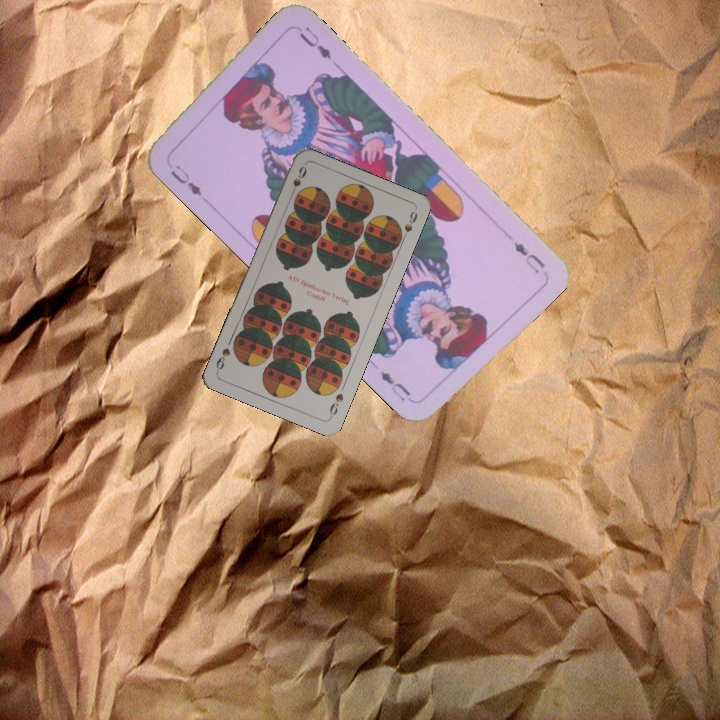EU: (166, 160, 205, 199), (509, 237, 548, 276)
S9: (286, 162, 309, 201), (325, 389, 346, 421)
